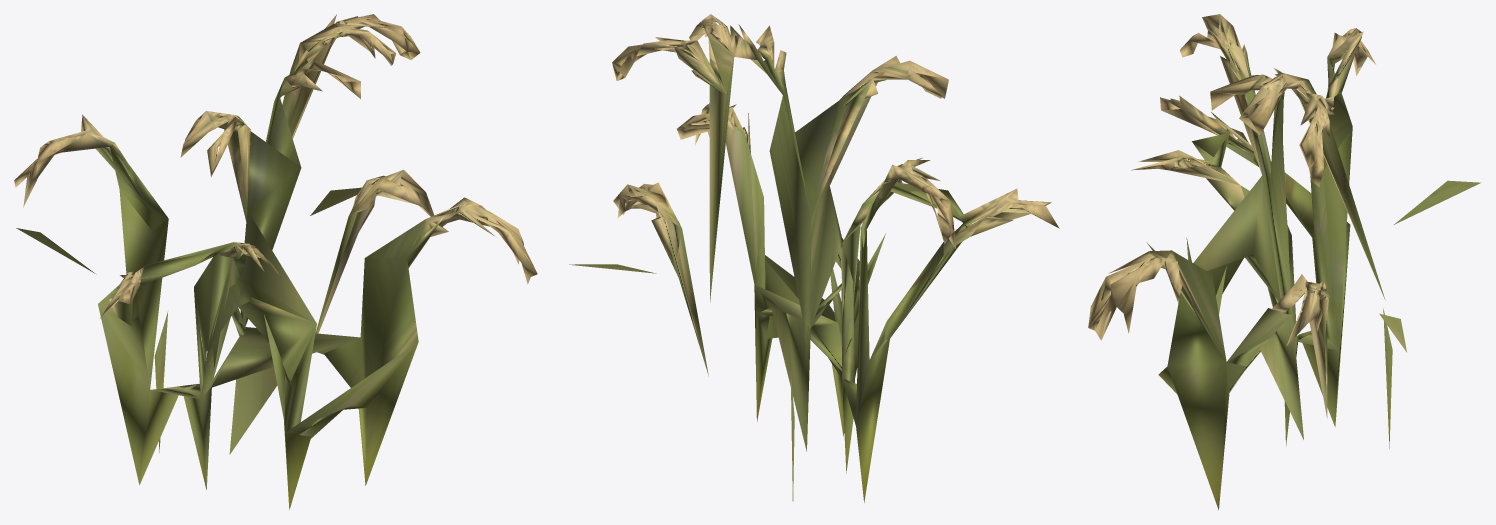
Rendered from RiceClump.fbx.
3 views of the same model, side by side, from view 1: azimuth 30°, elevation 25°; view 2: azimuth 150°, elevation 25°; view 3: azimuth 270°, elevation 25° (orthographic). The views are drawn at different scales.
Visible parts, largest first — view 1: Mesh_0; view 2: Mesh_0; view 3: Mesh_0.
Boxes of the visible parts, box(x1,y1,x2,y2) form: Mesh_0: box(14, 14, 537, 509); Mesh_0: box(569, 14, 1059, 502); Mesh_0: box(1088, 14, 1480, 510).
Size of the model in its own units: 84.04 by 87.51 by 71.
1 material, 1 textured.
